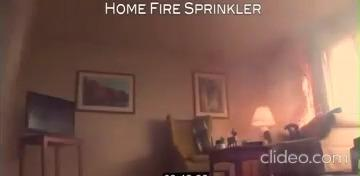fire: (290, 59, 317, 128)
